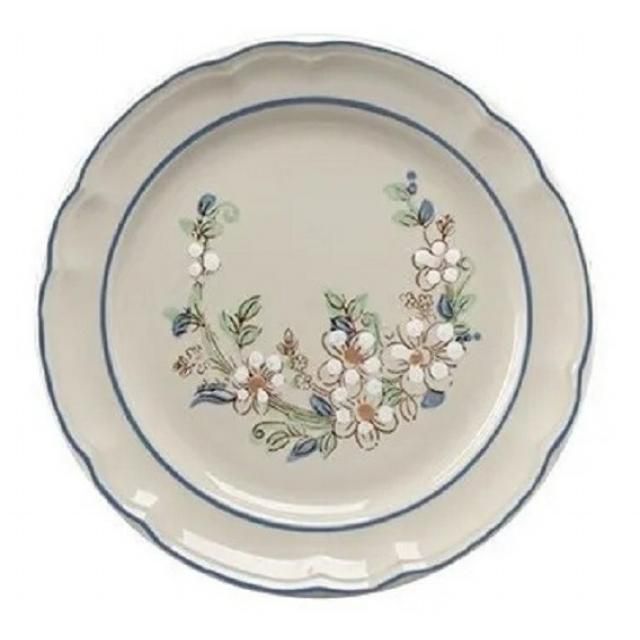non-organic waste: (47, 26, 598, 636)
